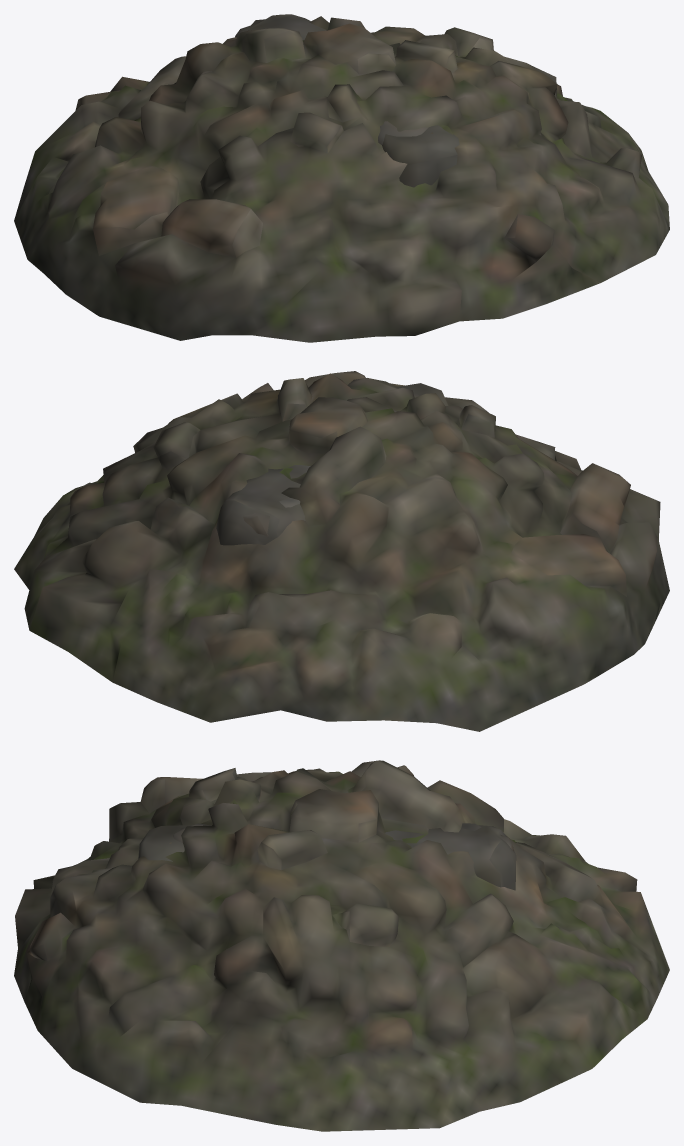
File: Ruin_Bricks&Tiles.fbx
3 renders of one model, top to bottom at view 1: azimuth 30°, elevation 25°; view 2: azimuth 150°, elevation 25°; view 3: azimuth 270°, elevation 25°, orthographic. The views are drawn at different scales.
Parts seen in each view (by area): view 1: Ruin_Brick_Pile, Curbstone_02; view 2: Ruin_Brick_Pile, Curbstone_02; view 3: Ruin_Brick_Pile, Curbstone_02.
Boxes of the visible parts, <box> form: Ruin_Brick_Pile: <box>14,16,669,342</box>; Curbstone_02: <box>235,14,459,187</box>; Ruin_Brick_Pile: <box>14,371,669,731</box>; Curbstone_02: <box>216,383,448,545</box>; Ruin_Brick_Pile: <box>14,760,669,1131</box>; Curbstone_02: <box>138,825,516,890</box>.
Size of what is drawn, in the model's own units: 345 by 114 by 324.
